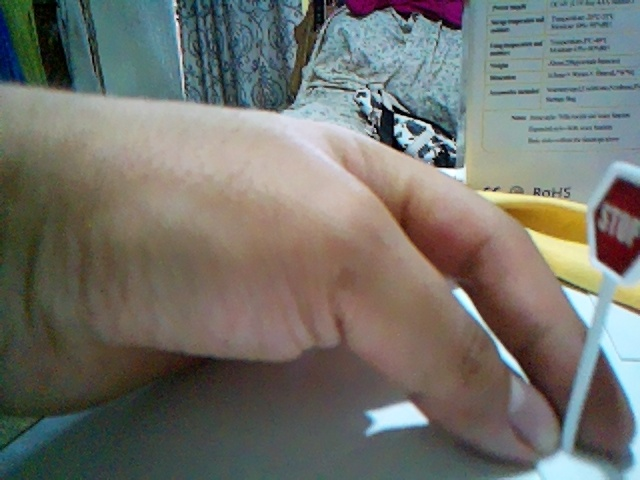stop_sign: (588, 162, 639, 280)
